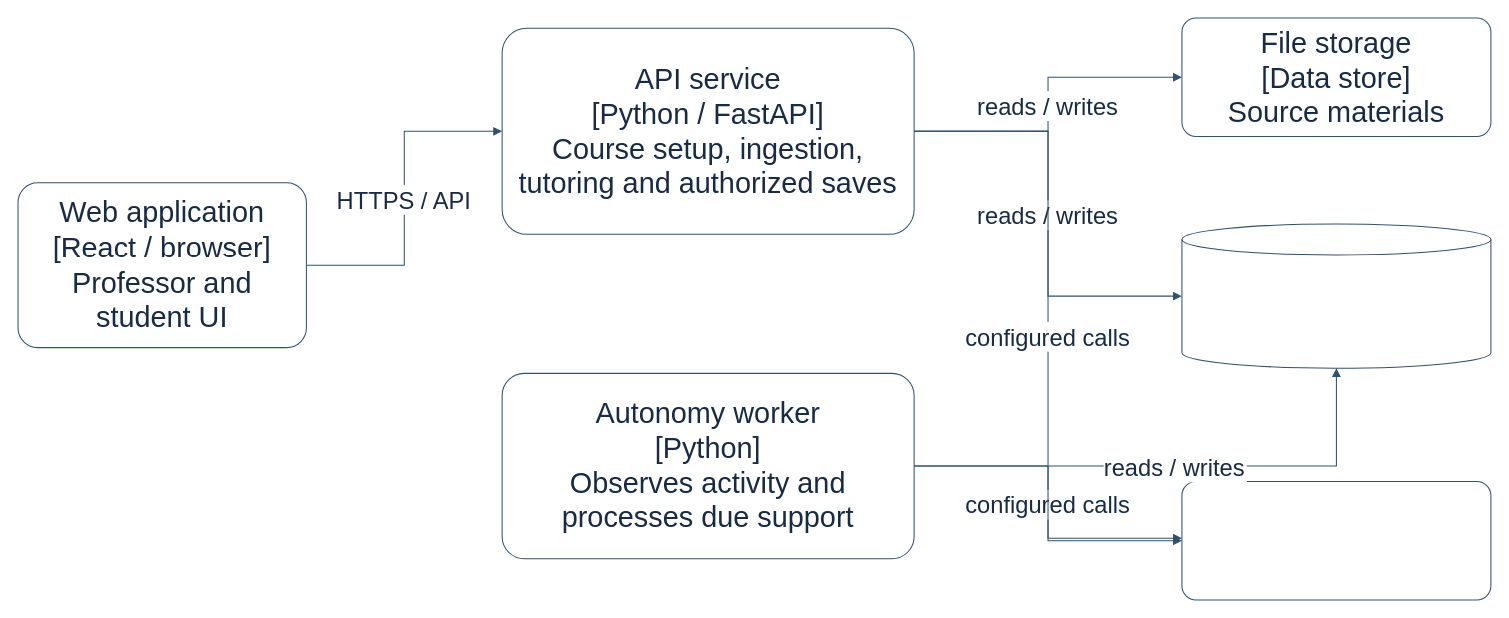
Some shapes in this 1509 by 618 pixel diagram are drawn without their labels. The centre of each missing label's shape, as x and y in pixels:
"Generation provider [External system]" belongs at [1336,540].
"SQLite [Data store] Dialogue, goals and jobs" belongs at [1336,295].
